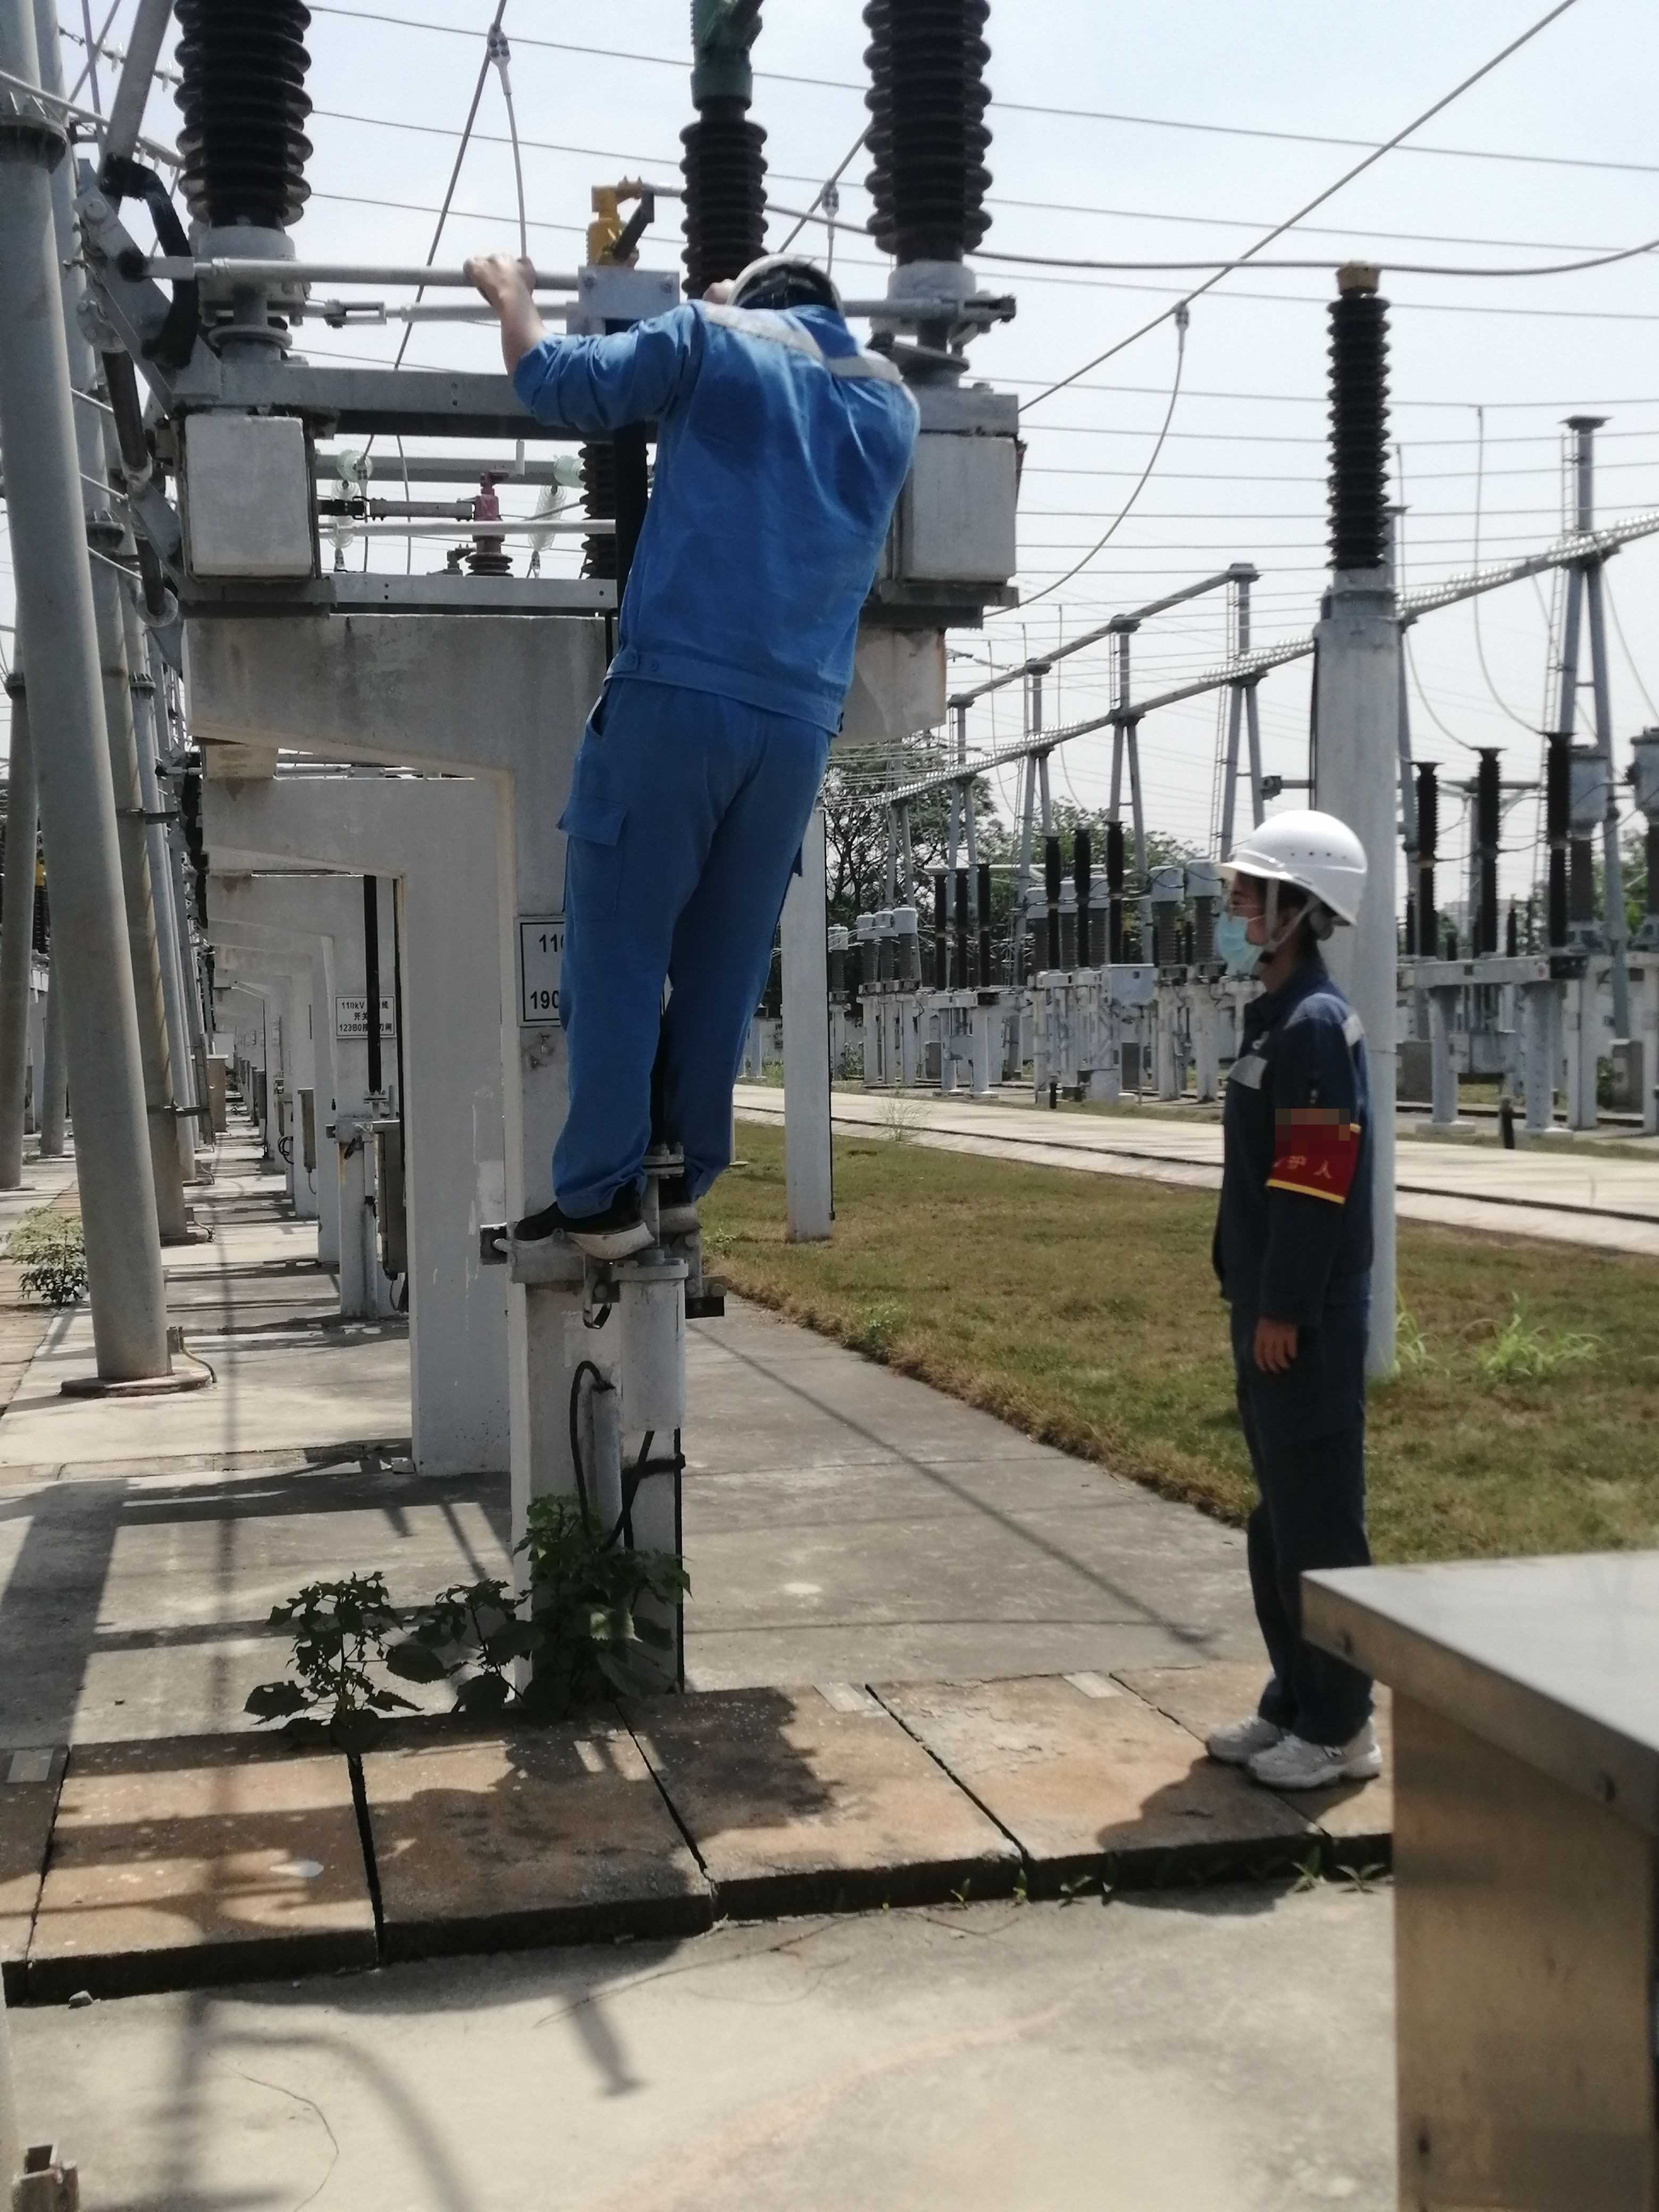downsuit: (540, 744, 829, 1211), (1232, 1322, 1375, 1726)
upsuit: (528, 291, 925, 712), (1213, 975, 1384, 1315)
wrongtop: (458, 247, 582, 392)
